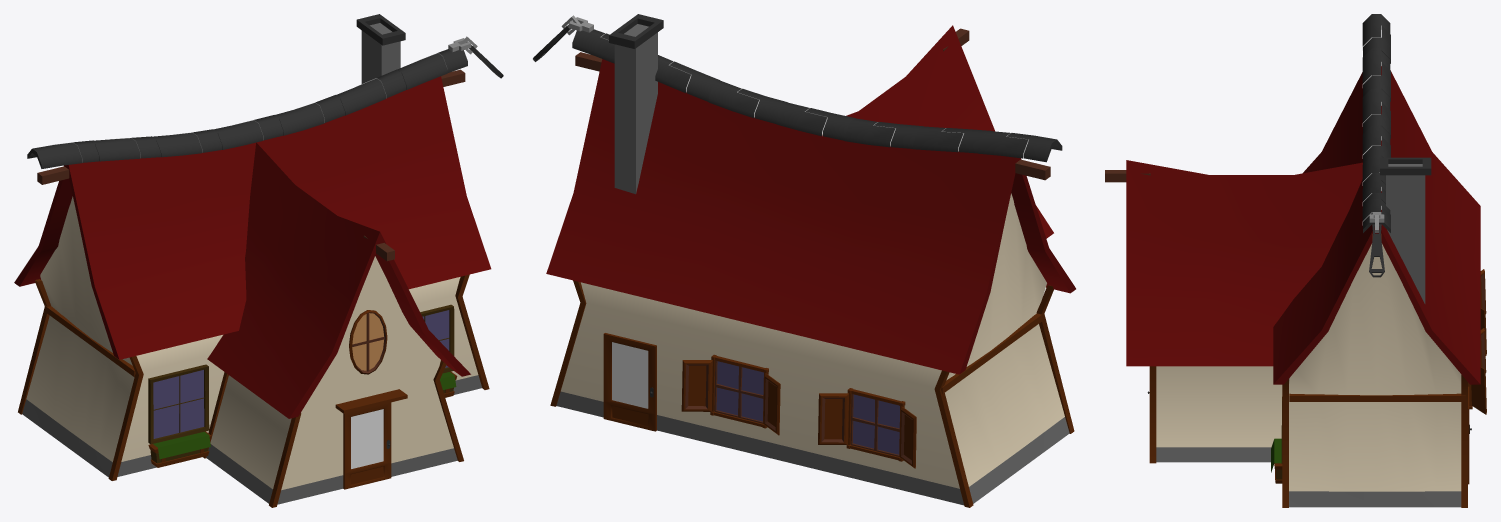
The model's file is HouseVariation.5.fbx.
The picture shows the model from 3 angles, left to right: view 1: azimuth 30°, elevation 25°; view 2: azimuth 150°, elevation 25°; view 3: azimuth 270°, elevation 25°; orthographic projection. The views are drawn at different scales.
Parts seen in each view (by area): view 1: Cube.010, Cube.011, Cube.020, Cube, Cube.270, Cube.225, Janela.046, PortaPresset.010, Cube.159, JanelasRedondas.007, Cube.157, Janela.044 (+1 smaller); view 2: Cube.010, Cube, Cube.270, Cube.011, Cube.159, JanelasPequenas.020, JanelasPequenas.021, PortaPresset.015, Cube.225; view 3: Cube.011, Cube, Cube.010, Cube.020, Cube.270, Cube.159, Cube.225, JanelasPequenas.020, Cube.158.
Part boxes in pixels (<box>): Cube.010: <box>14,76,491,359</box>; Cube.011: <box>207,142,470,418</box>; Cube.020: <box>206,256,457,504</box>; Cube: <box>22,196,481,477</box>; Cube.270: <box>27,36,503,168</box>; Cube.225: <box>18,274,489,507</box>; Janela.046: <box>148,364,209,444</box>; PortaPresset.010: <box>343,402,391,489</box>; Cube.159: <box>356,14,405,83</box>; JanelasRedondas.007: <box>349,310,387,374</box>; Cube.157: <box>148,431,211,467</box>; Janela.044: <box>420,304,454,373</box>; Cube.010: <box>546,59,1075,374</box>; Cube: <box>556,193,1069,505</box>; Cube.270: <box>533,15,1062,162</box>; Cube.011: <box>846,25,1053,238</box>; Cube.159: <box>609,14,663,194</box>; JanelasPequenas.020: <box>681,354,780,435</box>; JanelasPequenas.021: <box>818,388,916,468</box>; PortaPresset.015: <box>603,333,656,431</box>; Cube.225: <box>550,280,1074,507</box>; Cube.011: <box>1126,160,1362,366</box>; Cube: <box>1289,244,1461,507</box>; Cube.010: <box>1273,66,1480,384</box>; Cube.020: <box>1156,366,1282,462</box>; Cube.270: <box>1362,14,1390,277</box>; Cube.159: <box>1380,157,1431,303</box>; Cube.225: <box>1149,366,1467,507</box>; JanelasPequenas.020: <box>1468,328,1486,414</box>; Cube.158: <box>1271,438,1282,483</box>.
Bounding box in the file's own units: 1602 × 1074 × 1151.
